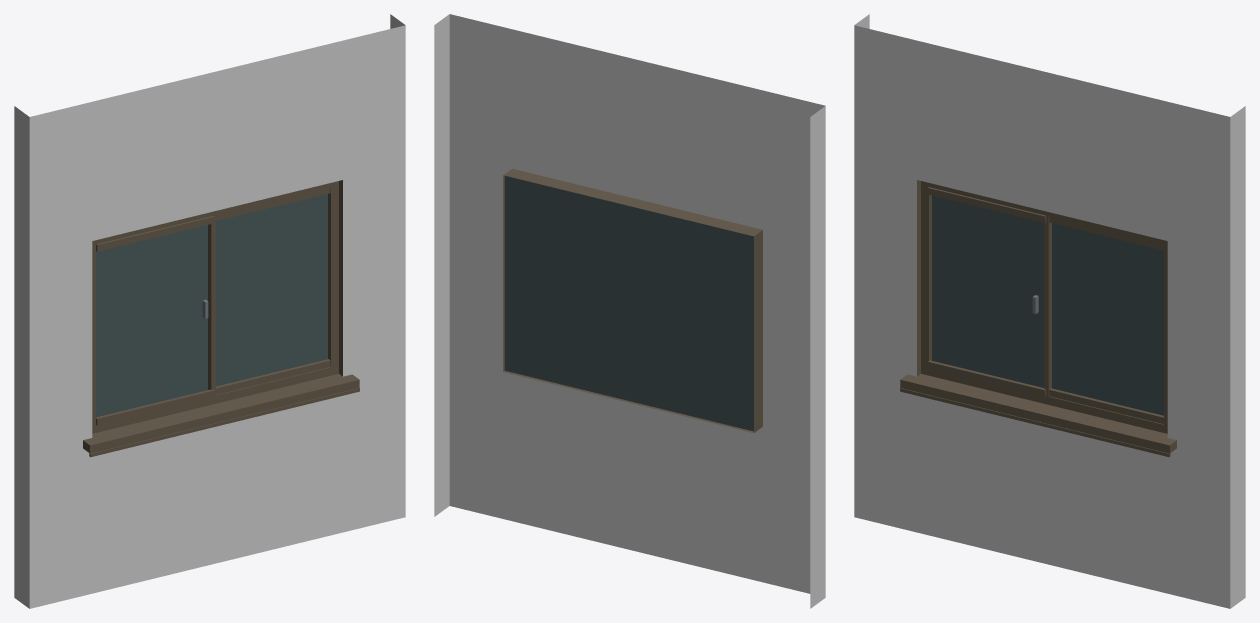
File: mid-stair3_close.fbx
The picture shows the model from 3 angles, left to right: view 1: azimuth 30°, elevation 25°; view 2: azimuth 150°, elevation 25°; view 3: azimuth 330°, elevation 25°; orthographic projection.
Parts seen in each view (by area): view 1: a2015/800/mid-stair_close; view 2: a2015/800/mid-stair_close; view 3: a2015/800/mid-stair_close.
Boxes of the visible parts, x1,y1,x2,y2 form: a2015/800/mid-stair_close: (14,14,405,608); a2015/800/mid-stair_close: (434,14,825,608); a2015/800/mid-stair_close: (854,14,1245,608).
Size of the model in its own units: 2.4 by 3 by 0.255.
